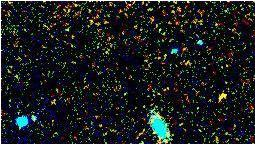star: (205, 79, 235, 109)
